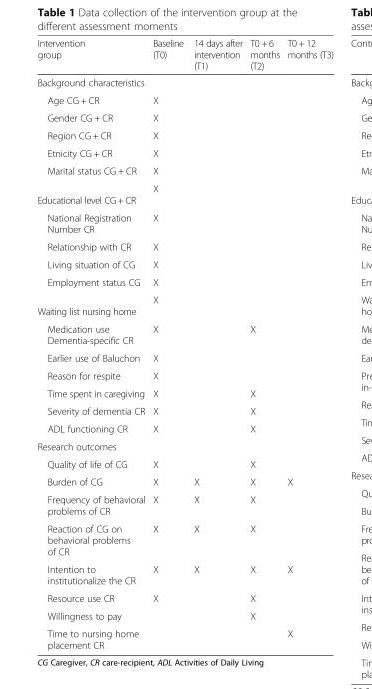table: (36, 37, 332, 650)
table column: (36, 37, 148, 650), (188, 37, 245, 650), (282, 37, 332, 650), (148, 37, 188, 650), (245, 37, 282, 650)
table column header: (36, 37, 332, 73)
table projected row header: (36, 437, 332, 455), (36, 73, 332, 90)
table row: (36, 519, 332, 559), (36, 37, 332, 73), (36, 179, 332, 208), (36, 208, 332, 237), (36, 290, 332, 319), (36, 319, 332, 348), (36, 490, 332, 519), (36, 559, 332, 588), (36, 624, 332, 650), (36, 90, 332, 108), (36, 108, 332, 126), (36, 143, 332, 161), (36, 161, 332, 179), (36, 237, 332, 255), (36, 272, 332, 290), (36, 348, 332, 366), (36, 366, 332, 384), (36, 401, 332, 419), (36, 419, 332, 437), (36, 437, 332, 455), (36, 472, 332, 490), (36, 588, 332, 606), (36, 606, 332, 624), (36, 73, 332, 90), (36, 126, 332, 143), (36, 255, 332, 272), (36, 384, 332, 401), (36, 455, 332, 472)
